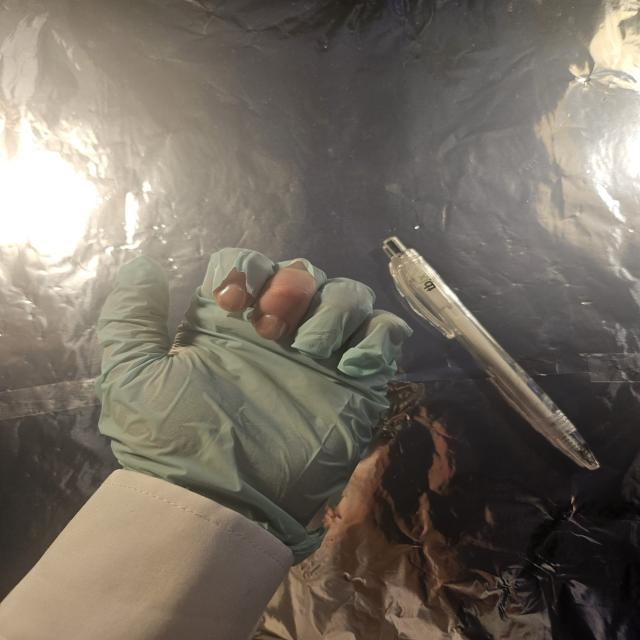gloves_damaged: (94, 244, 414, 565)
